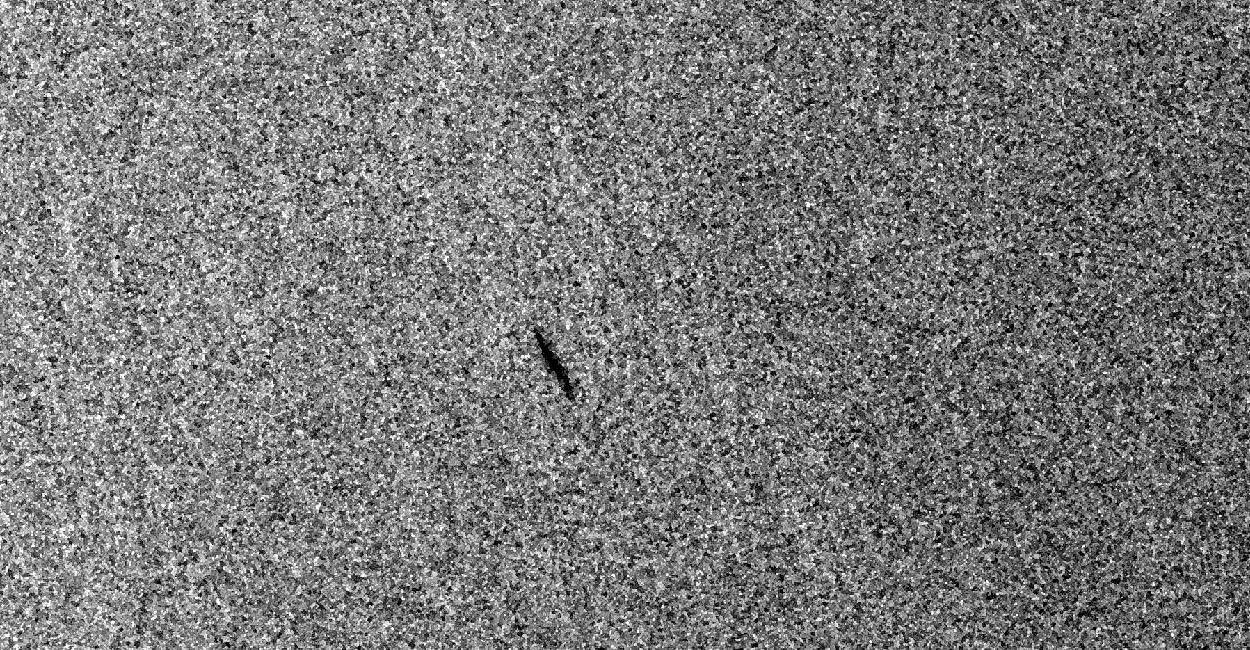Oil Spill: (532, 326, 576, 402)
